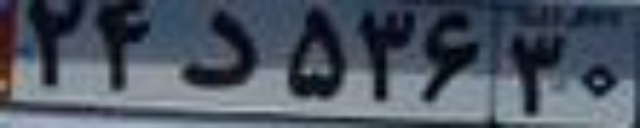0: (579, 64, 619, 96)
2: (27, 0, 80, 85)
3: (357, 9, 415, 101), (508, 33, 566, 115)
4: (94, 1, 149, 90)
5: (280, 6, 347, 99)
6: (419, 10, 483, 102)
dal: (178, 11, 257, 86)
